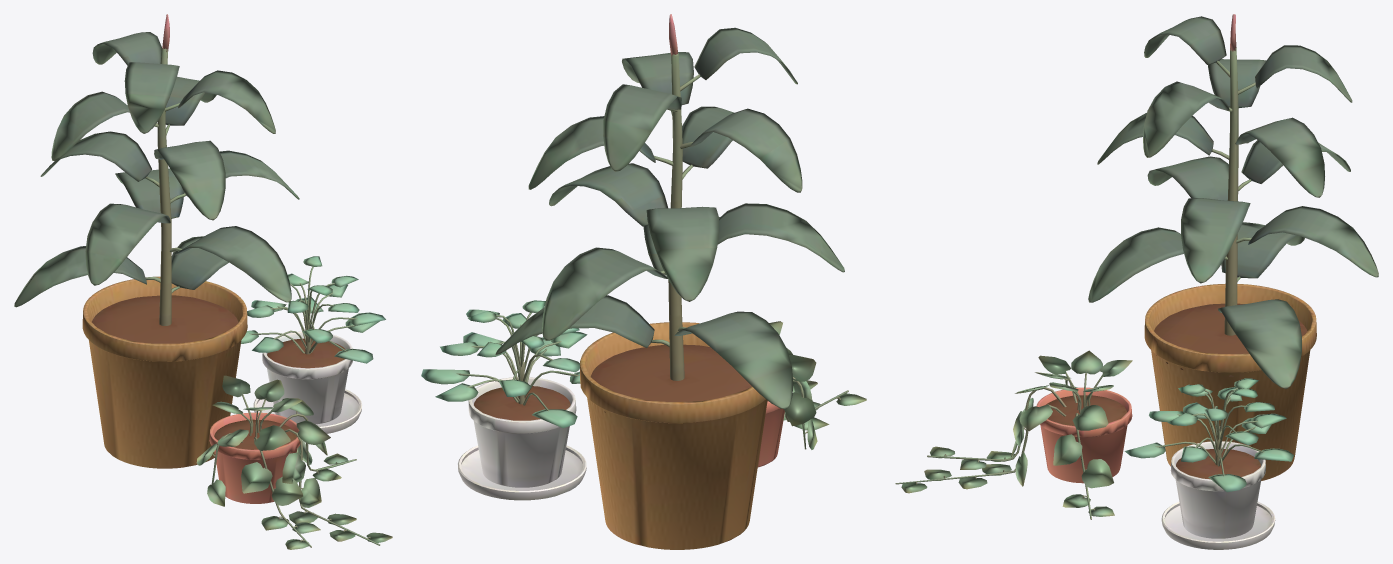
Rendered from houseplant-set.glb.
3 renders of one model, left to right at view 1: azimuth 30°, elevation 25°; view 2: azimuth 150°, elevation 25°; view 3: azimuth 270°, elevation 25°, orthographic. The views are drawn at different scales.
Visible parts, largest first — view 1: houseplant-set_body; view 2: houseplant-set_body; view 3: houseplant-set_body.
Part boxes in pixels (x1,y1,x2,y2): houseplant-set_body: [14, 14, 392, 549]; houseplant-set_body: [421, 14, 866, 549]; houseplant-set_body: [895, 14, 1378, 549].
Bounding box in the file's own units: 0.6674 × 0.805 × 0.7912.
1 material, 1 textured.
